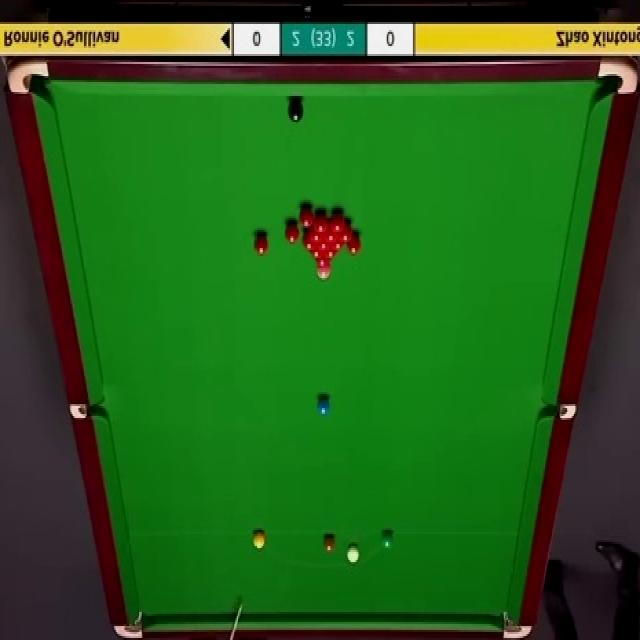black-ball: (286, 102, 304, 125)
blue-ball: (316, 398, 331, 415)
brown-ball: (324, 534, 335, 552)
green-ball: (380, 530, 395, 552)
pink-ball: (316, 262, 332, 277)
red-ball: (298, 204, 314, 228), (284, 223, 300, 246), (253, 234, 269, 256), (338, 221, 354, 243), (302, 230, 318, 251), (332, 212, 346, 234), (312, 214, 328, 233), (347, 233, 361, 254), (326, 241, 339, 261), (310, 246, 325, 258)
white-ball: (347, 546, 361, 564)
yellow-ball: (253, 530, 265, 550)
